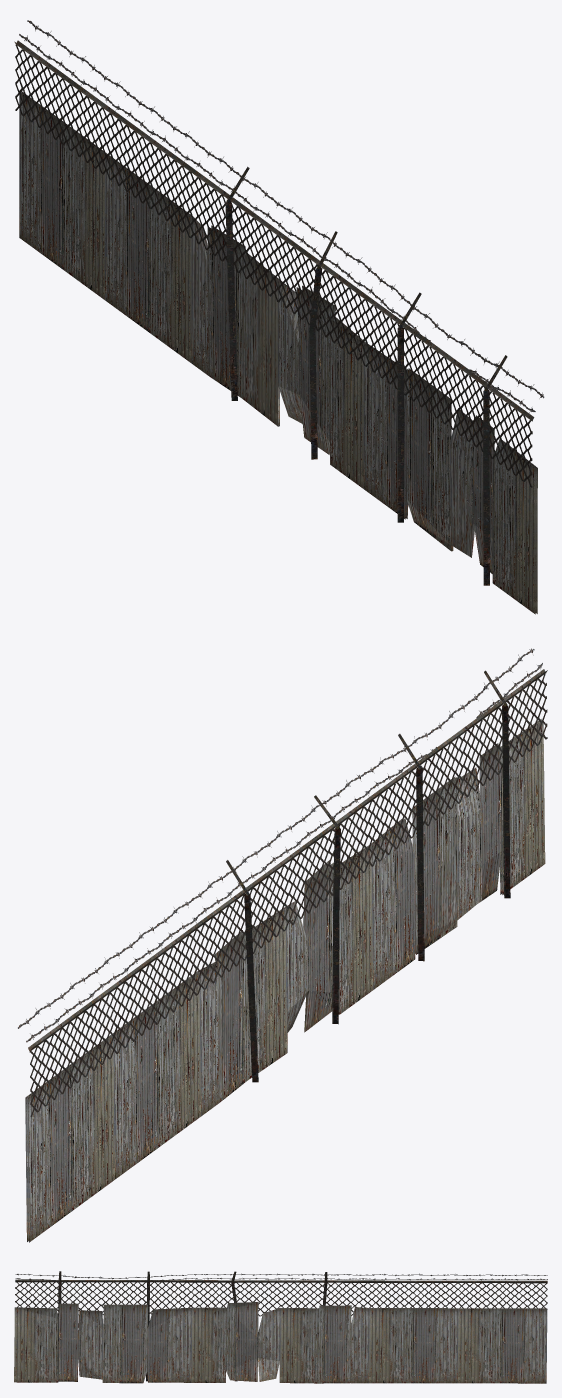
The model's file is Stockade.FBX.
The picture shows the model from 3 angles, top to bottom: view 1: azimuth 30°, elevation 25°; view 2: azimuth 150°, elevation 25°; view 3: azimuth 270°, elevation 25°; orthographic projection. The views are drawn at different scales.
Visible parts, largest first — view 1: Stockade; view 2: Stockade; view 3: Stockade.
Boxes of the visible parts, <box> form: Stockade: <box>14,20,544,614</box>; Stockade: <box>18,648,547,1242</box>; Stockade: <box>14,1271,547,1383</box>.
Size of the model in its own units: 32.66 by 258 by 1081.
